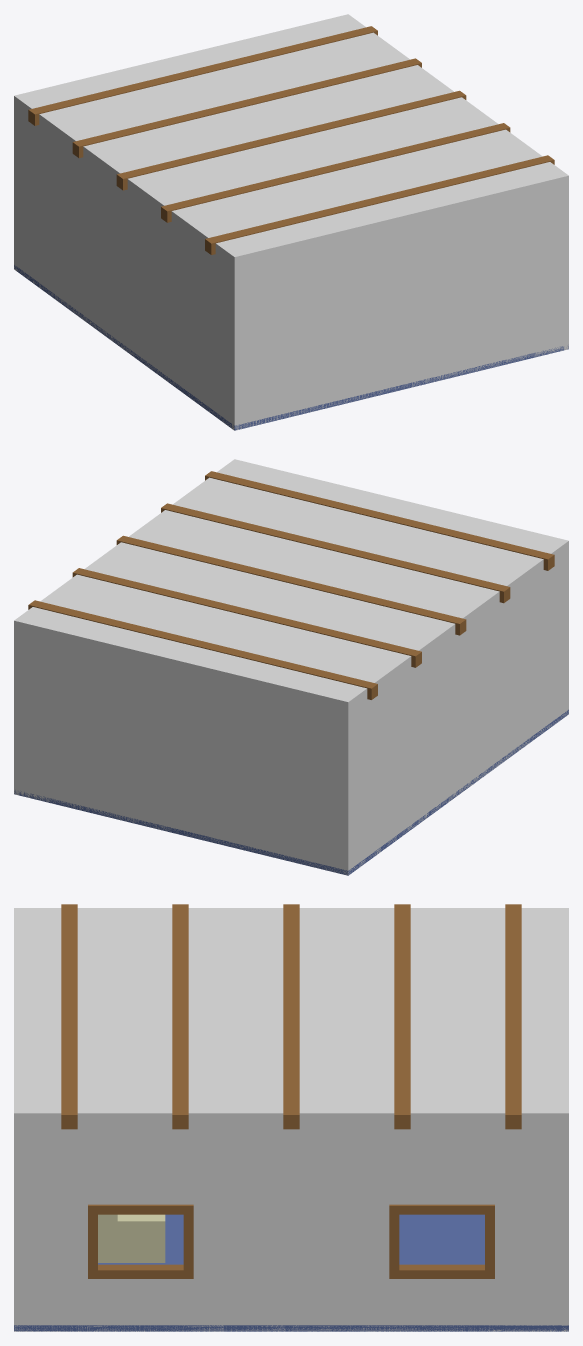
The model's file is livingRoom.fbx.
3 views of the same model, one above another, from view 1: azimuth 30°, elevation 25°; view 2: azimuth 150°, elevation 25°; view 3: azimuth 270°, elevation 25° (orthographic). The views are drawn at different scales.
Parts seen in each view (by area): view 1: roof, wall_S, wall_W, floor, beam3, beam5, beam4, beam2, beam1; view 2: roof, wall_N, wall_W, floor, beam3, beam1, beam2, beam4, beam5, wall_E; view 3: roof, wall_E, floor, beam1, beam2, beam3, beam4, beam5, windowSill_L, windowSill_R, sofa_armRest_L, wall_S (+2 smaller).
Boxes of the visible parts, box(x1,y1,x2,y2) form: roof: box(14, 14, 568, 261); wall_S: box(232, 181, 568, 430); wall_W: box(14, 101, 239, 429); floor: box(14, 265, 568, 430); beam3: box(116, 90, 466, 190); beam5: box(28, 26, 377, 125); beam4: box(72, 58, 421, 158); beam2: box(161, 123, 510, 222); beam1: box(205, 155, 554, 254); roof: box(14, 459, 568, 706); wall_N: box(14, 626, 350, 875); wall_W: box(343, 546, 568, 874); floor: box(14, 709, 568, 875); beam3: box(116, 535, 466, 635); beam1: box(205, 471, 554, 570); beam2: box(161, 503, 510, 603); beam4: box(72, 568, 421, 667); beam5: box(28, 600, 377, 699); wall_E: box(14, 625, 18, 794); roof: box(14, 908, 568, 1119); wall_E: box(14, 1119, 568, 1331); floor: box(14, 1214, 568, 1331); beam1: box(61, 904, 77, 1129); beam2: box(172, 904, 188, 1129); beam3: box(283, 904, 299, 1129); beam4: box(394, 904, 410, 1129); beam5: box(505, 904, 521, 1129); windowSill_L: box(389, 1204, 494, 1278); windowSill_R: box(88, 1204, 193, 1278); sofa_armRest_L: box(98, 1214, 165, 1262); wall_S: box(14, 1119, 20, 1331).
Bounding box in the file's own units: 5.39 × 2.62 × 6.
